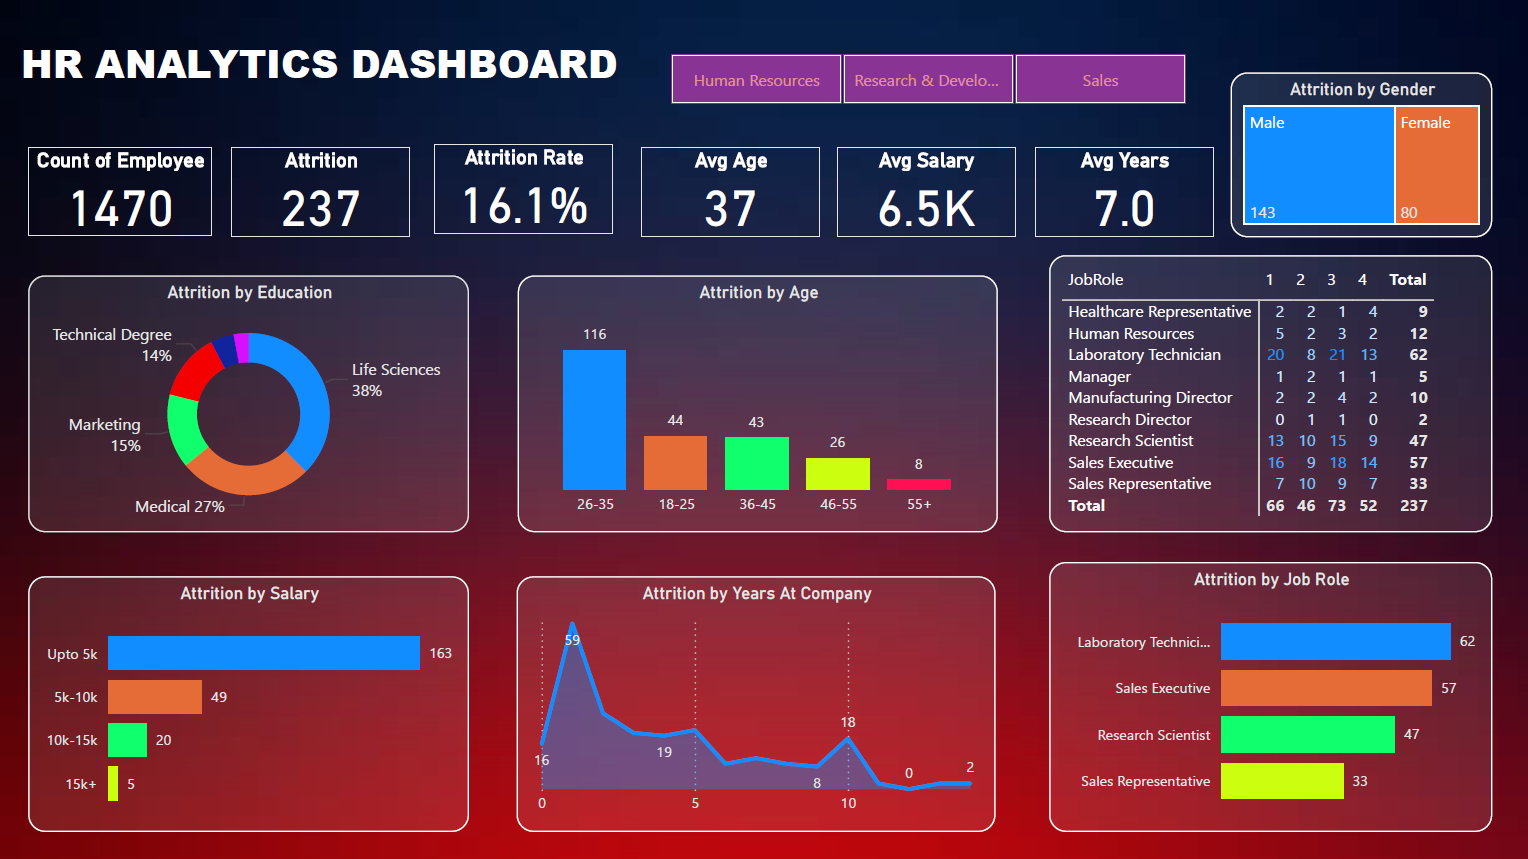

Layout of this report page (visuals, bound fields, positions):
{"tool":"powerbi","page":{"name":"HRAnalytics","canvas":[1280,720],"ordinal":0},"visuals":[{"type":"card","title":"Count of Employee","fields":{"Values":["Count(HR_Analytics.EmpID)"]},"box":[24.3,122.9,154,75],"z":0},{"type":"card","title":"Attrition","fields":{"Values":["Sum(HR_Analytics.AttritionCount)"]},"box":[194.3,122.9,150,75.7],"z":1000},{"type":"card","title":"Attrition Rate","fields":{"Values":["HR_Analytics.AttritionRate"]},"box":[364.3,121.4,150,75],"z":2000},{"type":"card","title":"Avg Age","fields":{"Values":["Avg(HR_Analytics.Age)"]},"box":[537.1,122.9,150,75.7],"z":3000},{"type":"card","title":"Avg Salary","fields":{"Values":["Avg(HR_Analytics.MonthlyIncome)"]},"box":[701.4,122.9,150,75.7],"z":4000},{"type":"card","title":"Avg Years","fields":{"Values":["Avg(HR_Analytics.YearsAtCompany)"]},"box":[867.1,122.9,150,75.7],"z":5000},{"type":"donutChart","title":"Attrition by Education","fields":{"Category":["HR_Analytics.EducationField"],"Y":["Sum(HR_Analytics.AttritionCount)"]},"box":[24.3,231.4,368.6,214.3],"z":6000},{"type":"columnChart","title":"Attrition by Age","fields":{"Category":["HR_Analytics.AgeGroup"],"Y":["Sum(HR_Analytics.AttritionCount)"]},"box":[434.3,231.4,401.4,214.3],"z":7000},{"type":"pivotTable","fields":{"Rows":["HR_Analytics.JobRole"],"Columns":["HR_Analytics.JobSatisfaction"],"Values":["Sum(HR_Analytics.AttritionCount)"]},"box":[878.6,214.3,371.4,231.4],"z":8000},{"type":"barChart","title":"Attrition by Salary","fields":{"Category":["HR_Analytics.SalarySlab"],"Y":["Sum(HR_Analytics.AttritionCount)"]},"box":[24.3,482.9,368.6,214.3],"z":9000},{"type":"barChart","title":"Attrition by Job Role","fields":{"Category":["HR_Analytics.JobRole"],"Y":["Sum(HR_Analytics.AttritionCount)"]},"box":[878.6,471.4,371.4,225.7],"z":10000},{"type":"areaChart","title":"Attrition by Years At Company","fields":{"Category":["HR_Analytics.YearsAtCompany"],"Y":["Sum(HR_Analytics.AttritionCount)"]},"box":[432.9,482.9,401.4,214.3],"z":11000},{"type":"treemap","title":"Attrition by Gender","fields":{"Group":["HR_Analytics.Gender"],"Values":["Sum(HR_Analytics.AttritionCount)"]},"box":[1031.4,61.4,218.6,137.1],"z":12000},{"type":"slicer","fields":{"Values":["HR_Analytics.Department"]},"box":[537.1,38.6,480,55.7],"z":13000},{"type":"textbox","box":[12.9,25.7,568.6,68.6],"z":14000}]}

Visuals, with their boxes in screenshot pixels (x1, y1, x2, y2), scaled from the page's 1280x720 canvas onto the 1528x859 screenshot:
"Count of Employee" card: BBox(29, 147, 213, 236)
"Attrition" card: BBox(232, 147, 411, 237)
"Attrition Rate" card: BBox(435, 145, 614, 234)
"Avg Age" card: BBox(641, 147, 820, 237)
"Avg Salary" card: BBox(837, 147, 1016, 237)
"Avg Years" card: BBox(1035, 147, 1214, 237)
"Attrition by Education" donutChart: BBox(29, 276, 469, 532)
"Attrition by Age" columnChart: BBox(518, 276, 998, 532)
pivotTable - HR_Analytics.JobRole x HR_Analytics.JobSatisfaction: BBox(1049, 256, 1492, 532)
"Attrition by Salary" barChart: BBox(29, 576, 469, 832)
"Attrition by Job Role" barChart: BBox(1049, 562, 1492, 832)
"Attrition by Years At Company" areaChart: BBox(517, 576, 996, 832)
"Attrition by Gender" treemap: BBox(1231, 73, 1492, 237)
slicer - HR_Analytics.Department: BBox(641, 46, 1214, 113)
textbox: BBox(15, 31, 694, 113)
